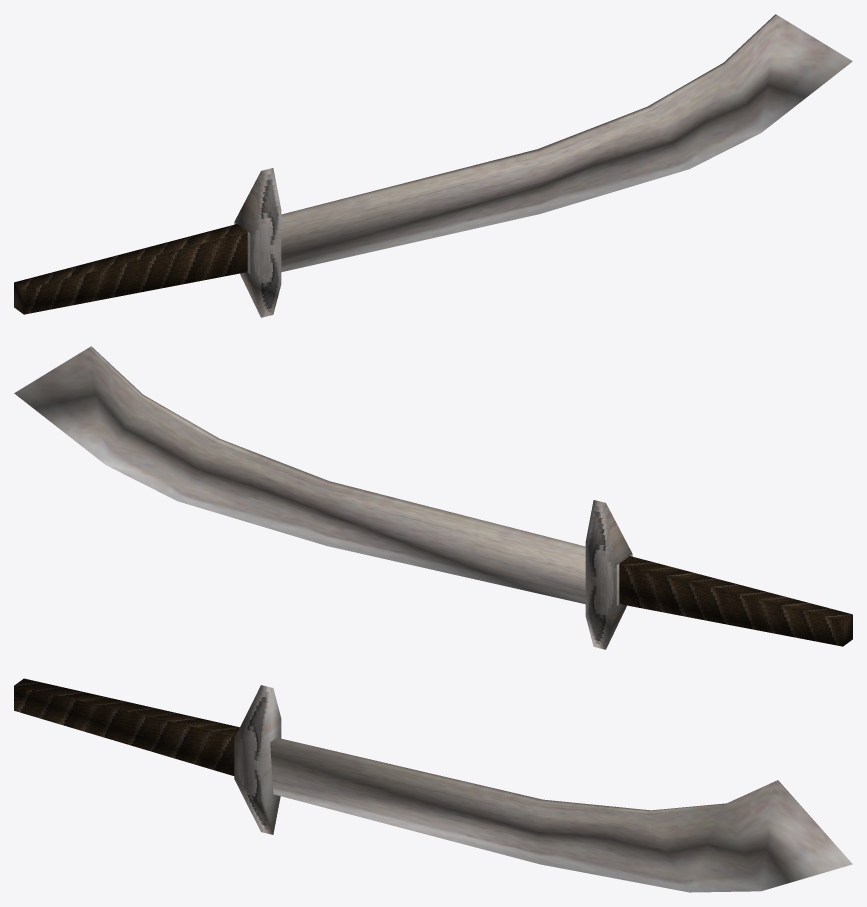
The picture shows the model from 3 angles, top to bottom: view 1: azimuth 30°, elevation 25°; view 2: azimuth 150°, elevation 25°; view 3: azimuth 330°, elevation 25°; orthographic projection.
Visible parts, largest first — view 1: it86; view 2: it86; view 3: it86.
Part boxes in pixels (bbox=[...]): it86: bbox=[14, 14, 852, 317]; it86: bbox=[14, 346, 852, 649]; it86: bbox=[14, 678, 852, 892].
Size of the model in its own units: 3.8 by 0.7717 by 0.127.
Materials: 3 (3 with a texture image).
